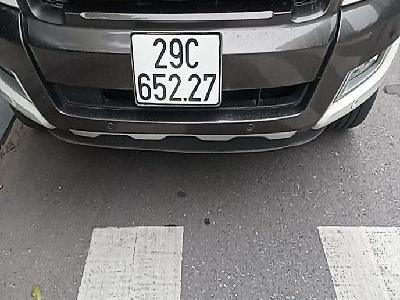lisence: (129, 30, 223, 108)
